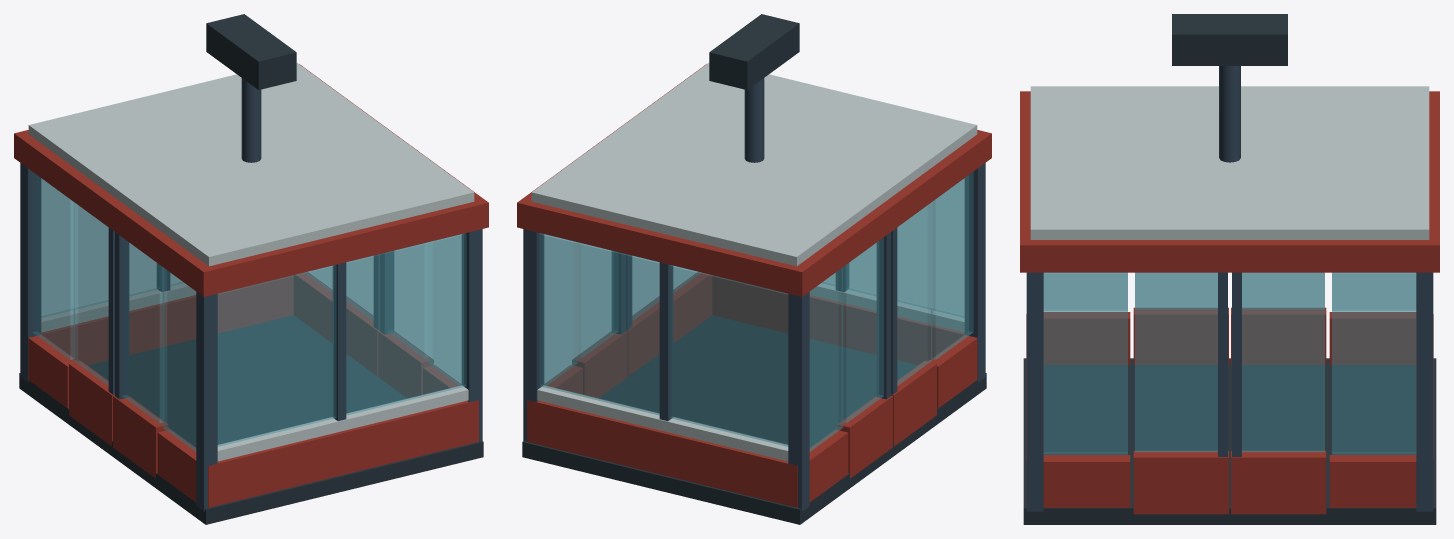
The model's file is tram.glb.
3 views of the same model, side by side, from view 1: azimuth 30°, elevation 25°; view 2: azimuth 150°, elevation 25°; view 3: azimuth 270°, elevation 25° (orthographic). The views are drawn at different scales.
Visible parts, largest first — view 1: tram; view 2: tram; view 3: tram.
Boxes of the visible parts, x1,y1,x2,y2 form: tram: (14, 14, 488, 524); tram: (517, 14, 991, 524); tram: (1020, 14, 1439, 524).
Bounding box in the file's own units: 1.57 × 2.03 × 1.81.
